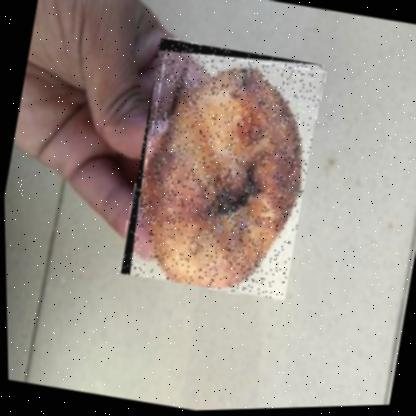guava_rotten: (113, 35, 327, 306)
